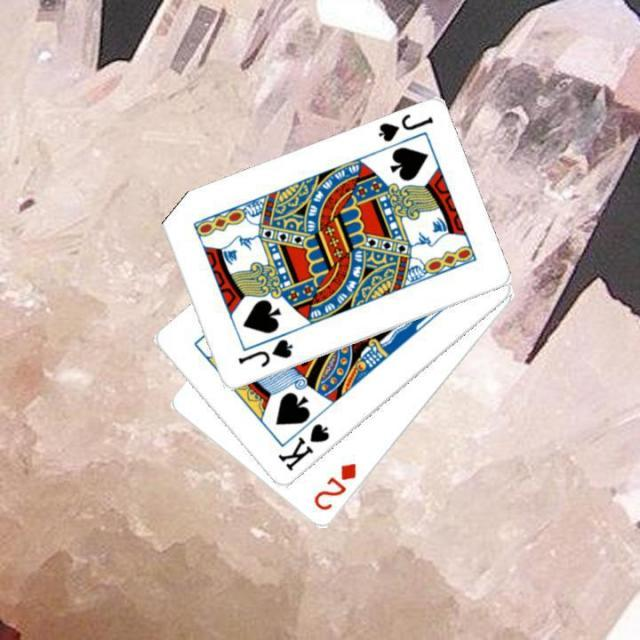2D: (309, 460, 359, 512)
JS: (233, 335, 296, 370), (374, 110, 434, 145)
KS: (274, 419, 332, 474)
